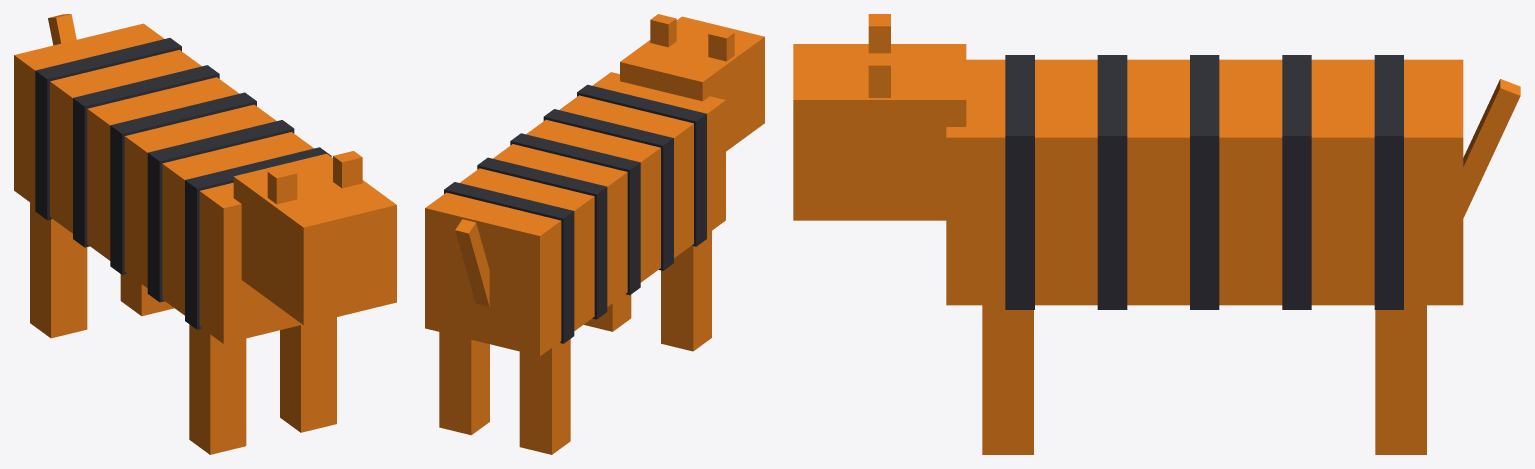
Rendered from tiger.glb.
The picture shows the model from 3 angles, left to right: view 1: azimuth 30°, elevation 25°; view 2: azimuth 150°, elevation 25°; view 3: azimuth 270°, elevation 25°; orthographic projection. The views are drawn at different scales.
Visible parts, largest first — view 1: tiger; view 2: tiger; view 3: tiger.
Part boxes in pixels (bbox=[...]): tiger: bbox=[14, 14, 396, 454]; tiger: bbox=[425, 14, 764, 454]; tiger: bbox=[793, 14, 1520, 454].
Size of the model in its own units: 0.52 by 1.13 by 1.97.
